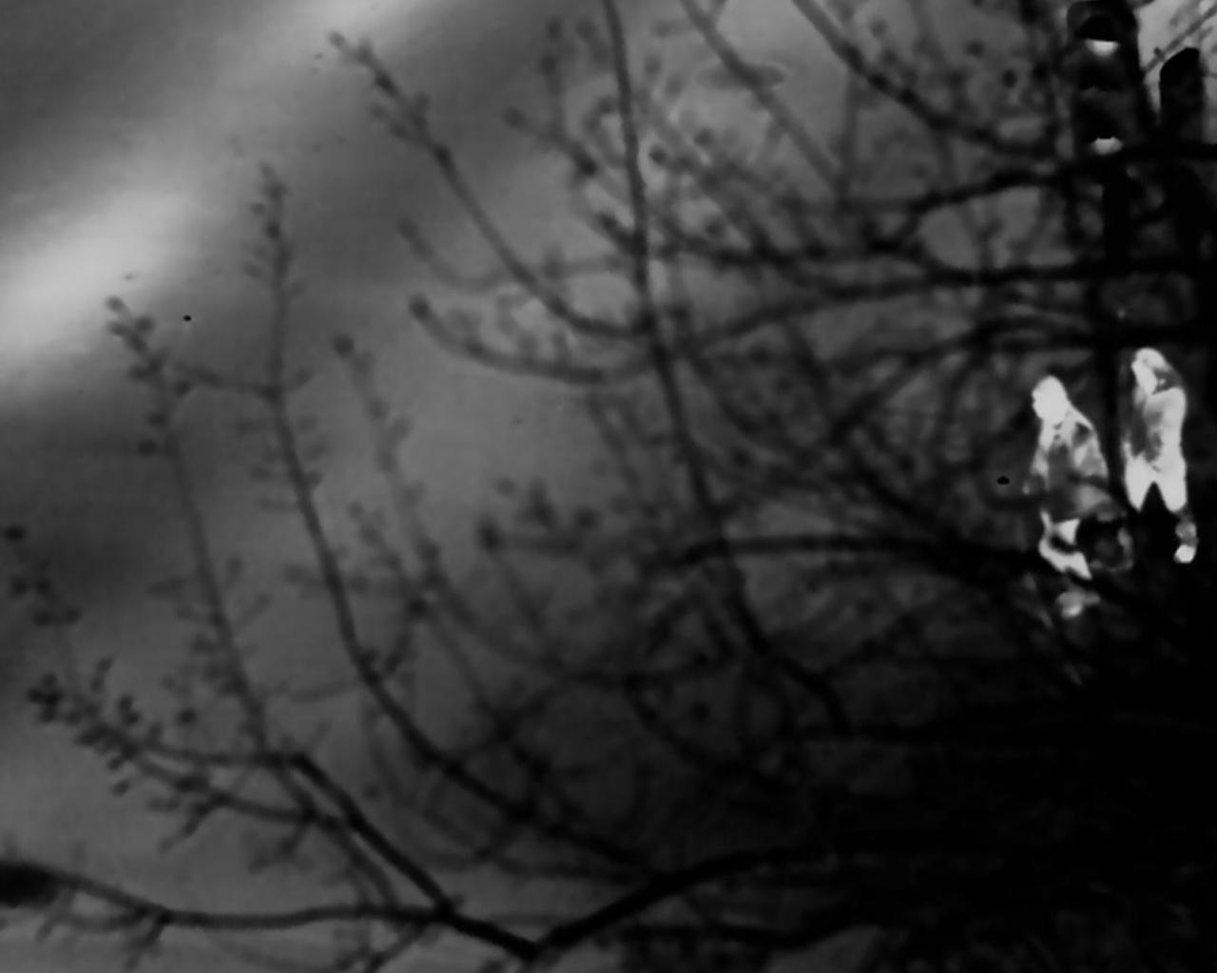person: (1013, 379, 1099, 618), (1116, 351, 1201, 572)
